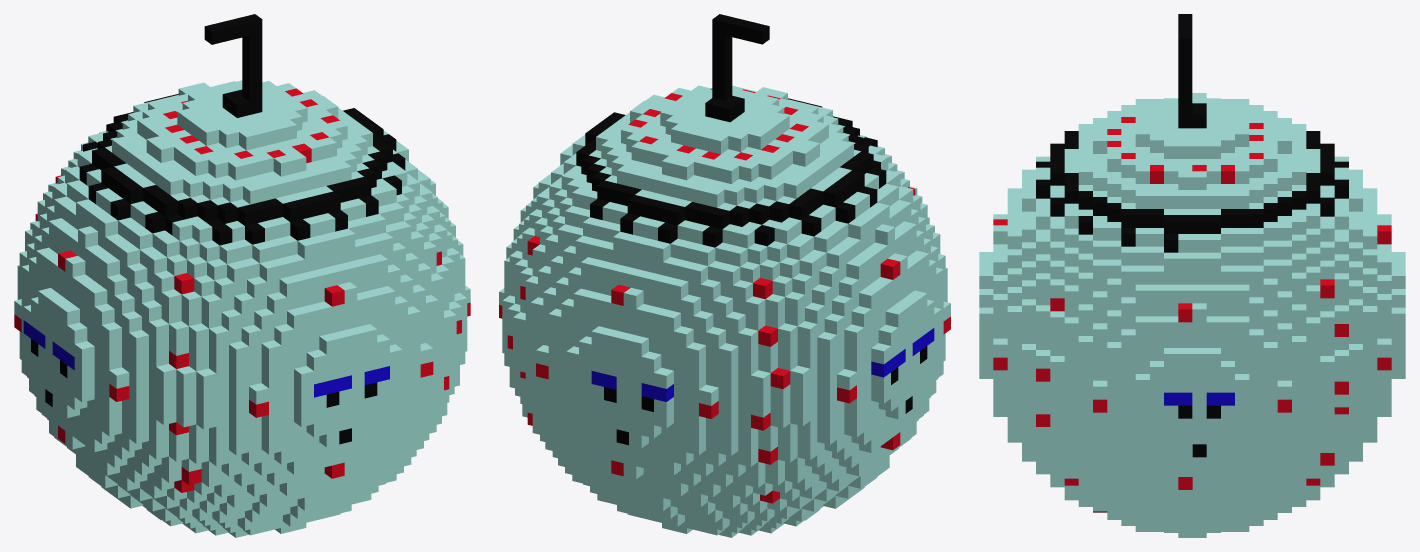
Rendered from RyleyBombe.glb.
3 views of the same model, side by side, from view 1: azimuth 30°, elevation 25°; view 2: azimuth 150°, elevation 25°; view 3: azimuth 270°, elevation 25° (orthographic). The views are drawn at different scales.
Visible parts, largest first — view 1: ObjObject.002; view 2: ObjObject.002; view 3: ObjObject.002.
Boxes of the visible parts, left/top/right/bottom form: ObjObject.002: left=14, top=14, right=470, bottom=537; ObjObject.002: left=499, top=14, right=950, bottom=537; ObjObject.002: left=979, top=14, right=1405, bottom=537.
Bounding box in the file's own units: 3 × 3.7 × 3.
